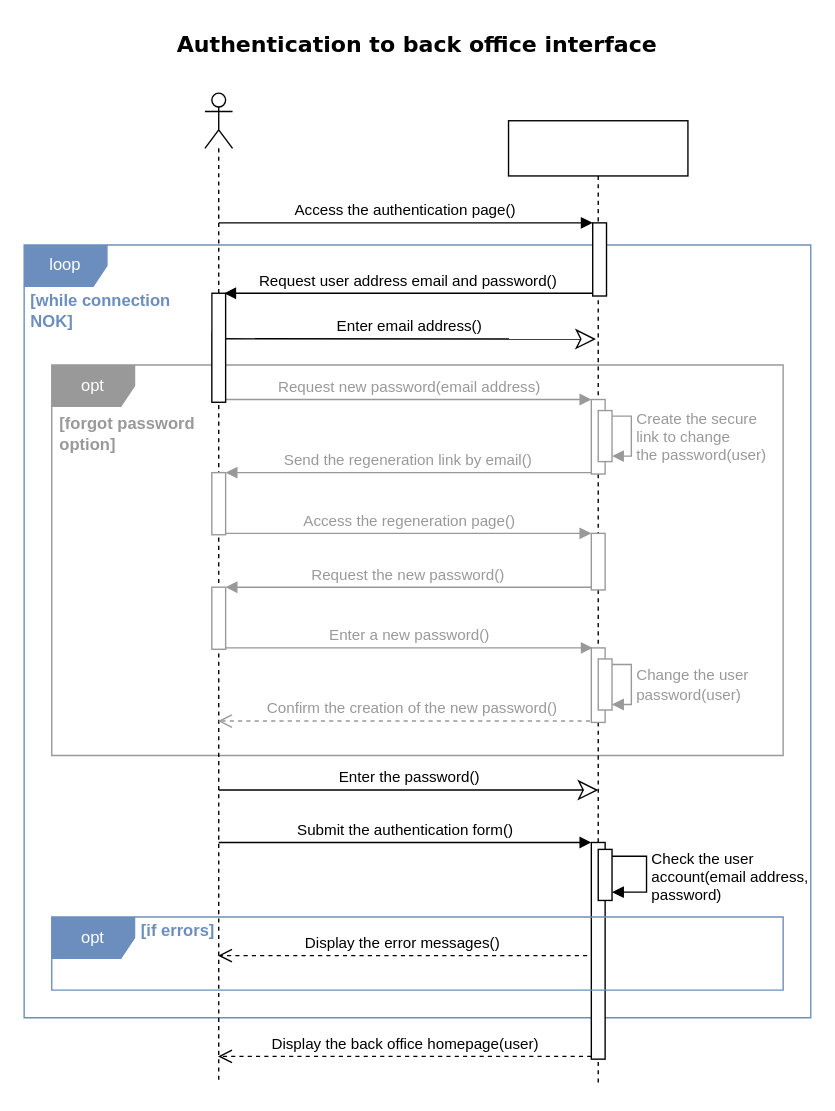
This 835x1111 diagram has some shape labels left out. Each missing label, with the box of its shape:
:System: (507, 119, 688, 1087)
:User: (204, 92, 233, 1084)
